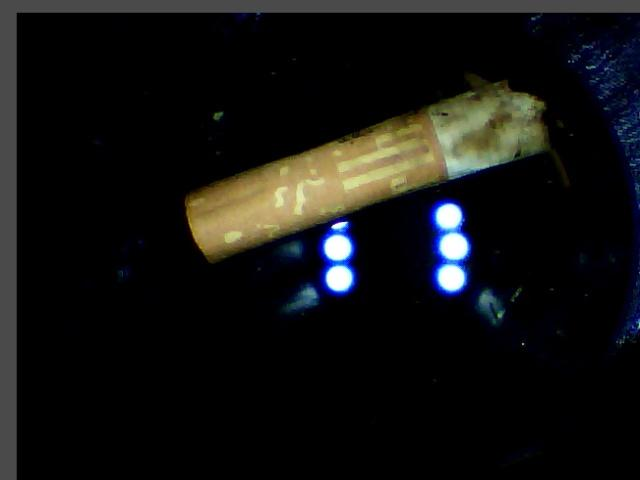megot: (175, 61, 564, 278)
